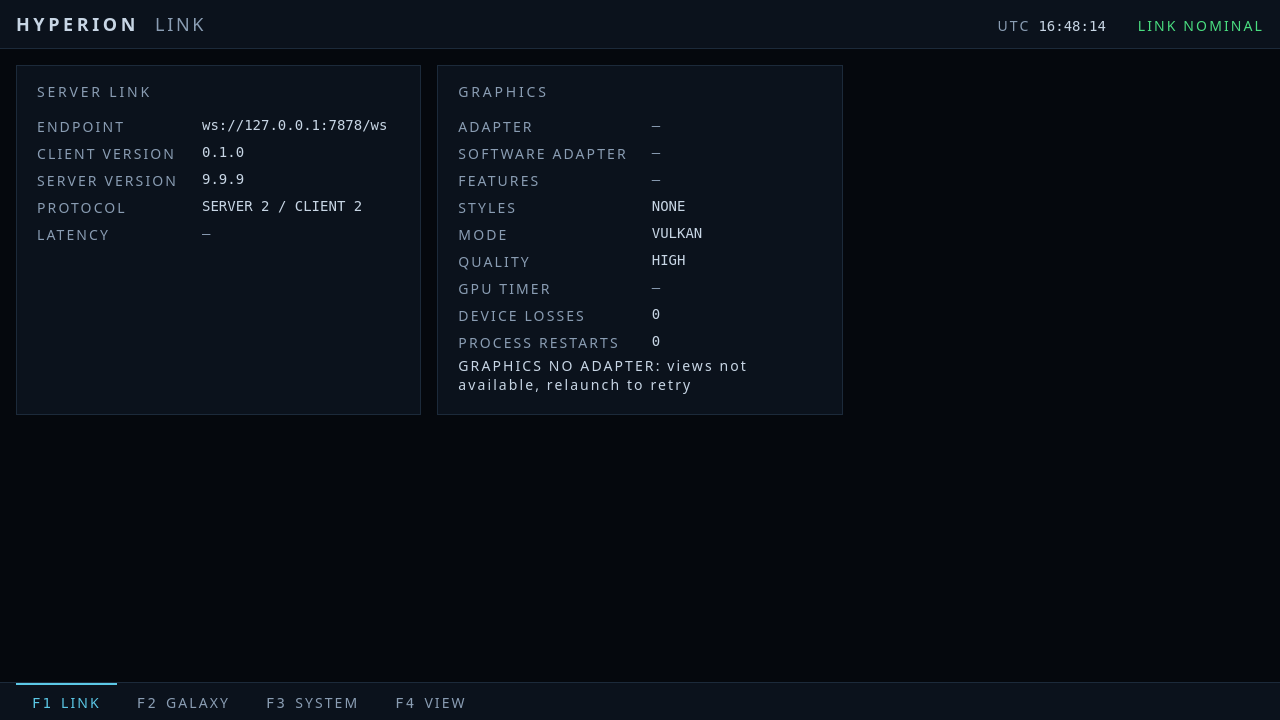
Scenario: the GALAXY readout's stars › says PENDING beside the readout, not in it, and fills no row until the answer
Press F2
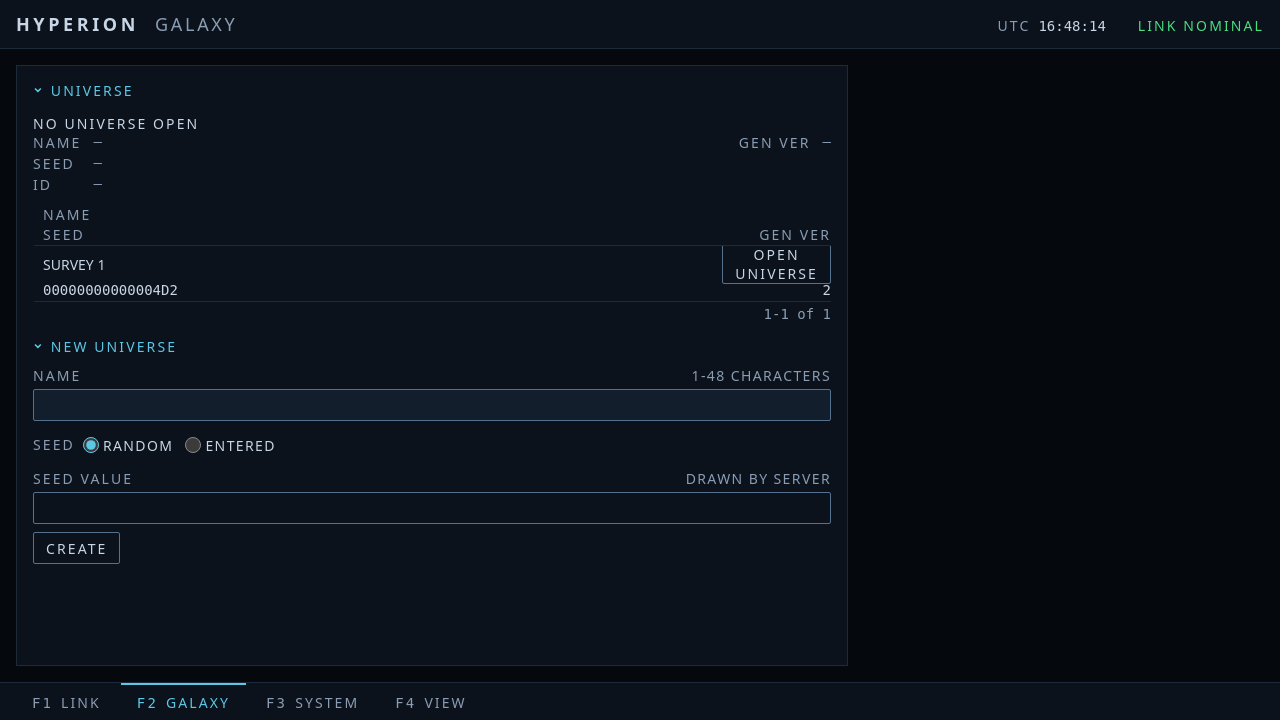
Click the button with aria-label "Open universe SURVEY 1" at [777, 264], box [722,244,831,284]
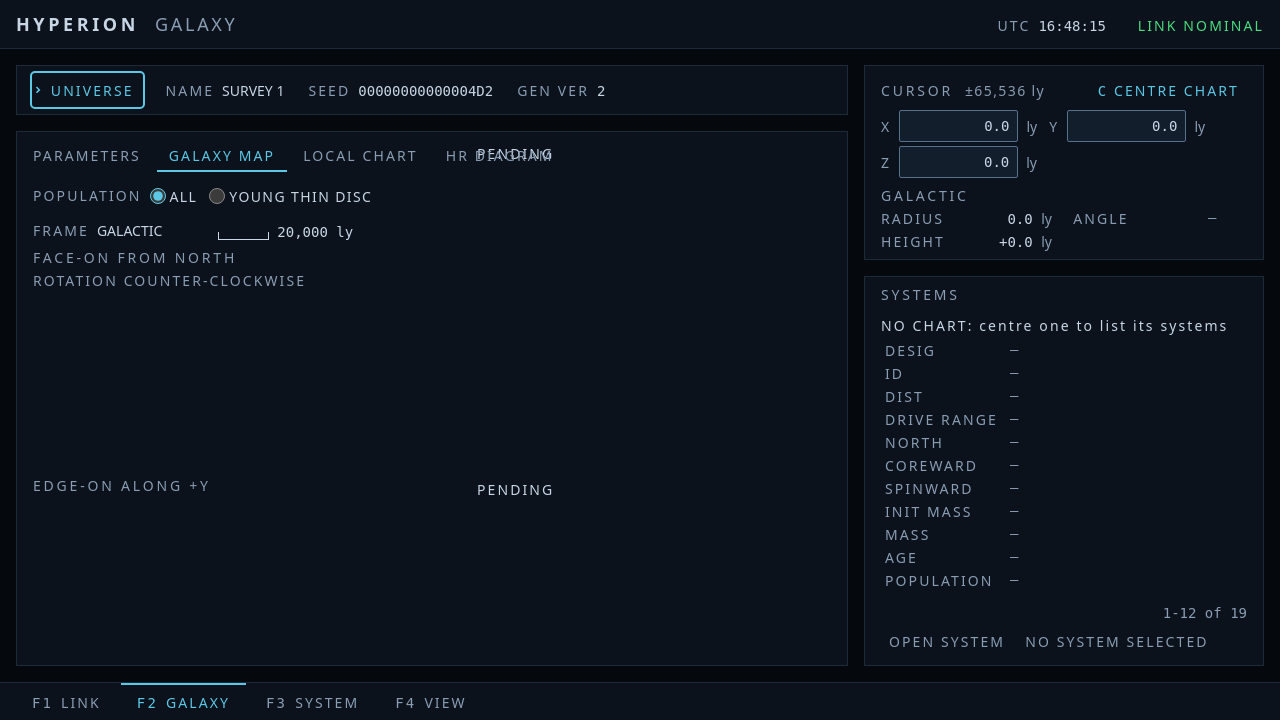
Replace the text in the field labelled "X" with "26000" at [959, 126], box [899,110,1018,142]
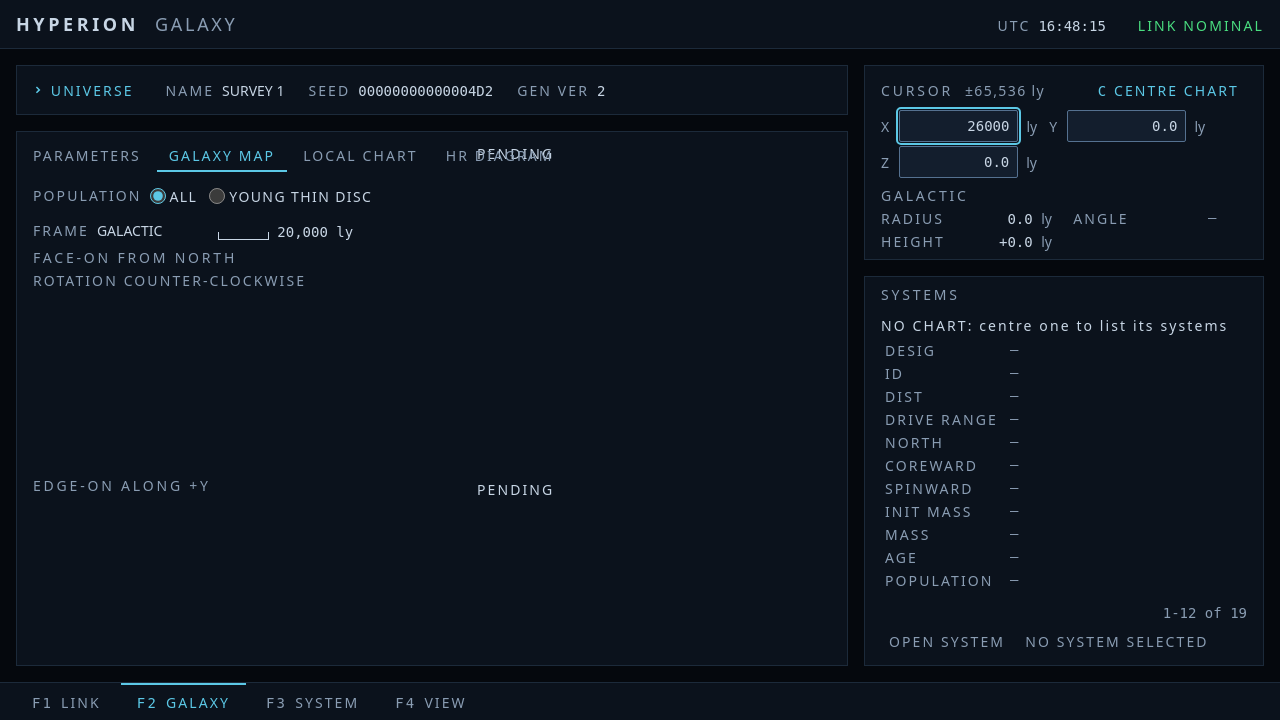
Click the button "C CENTRE CHART" at [1168, 90], box [1090,74,1247,106]
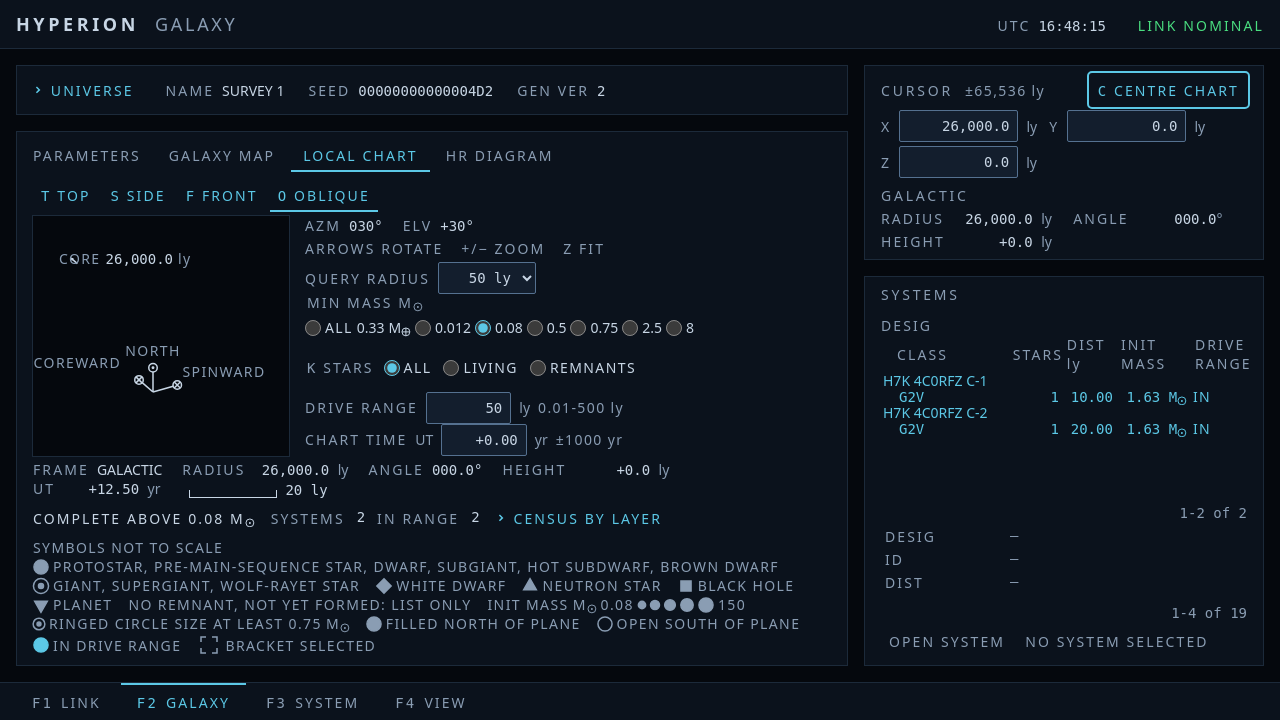
Click the option with aria-label "H7K 4C0RFZ C-1," at [935, 380], box [881,373,1247,405]
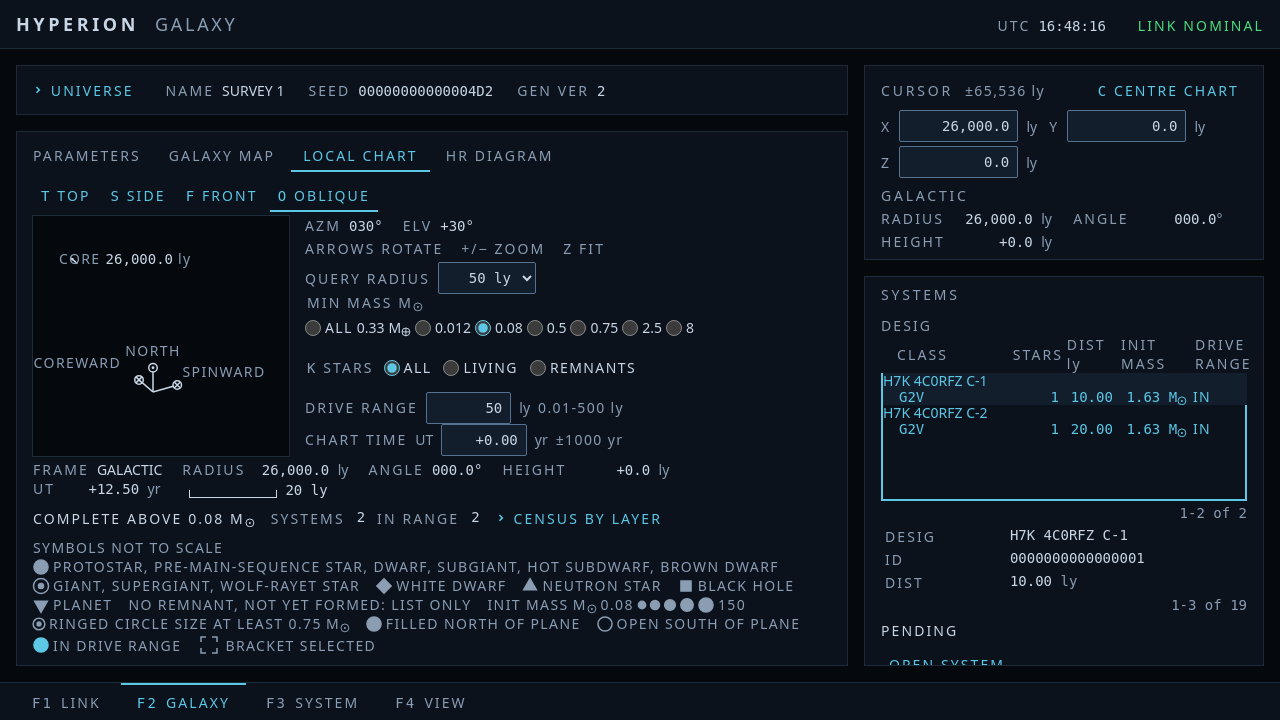
Now the text "PENDING" is shown, box [881,621,958,640]
